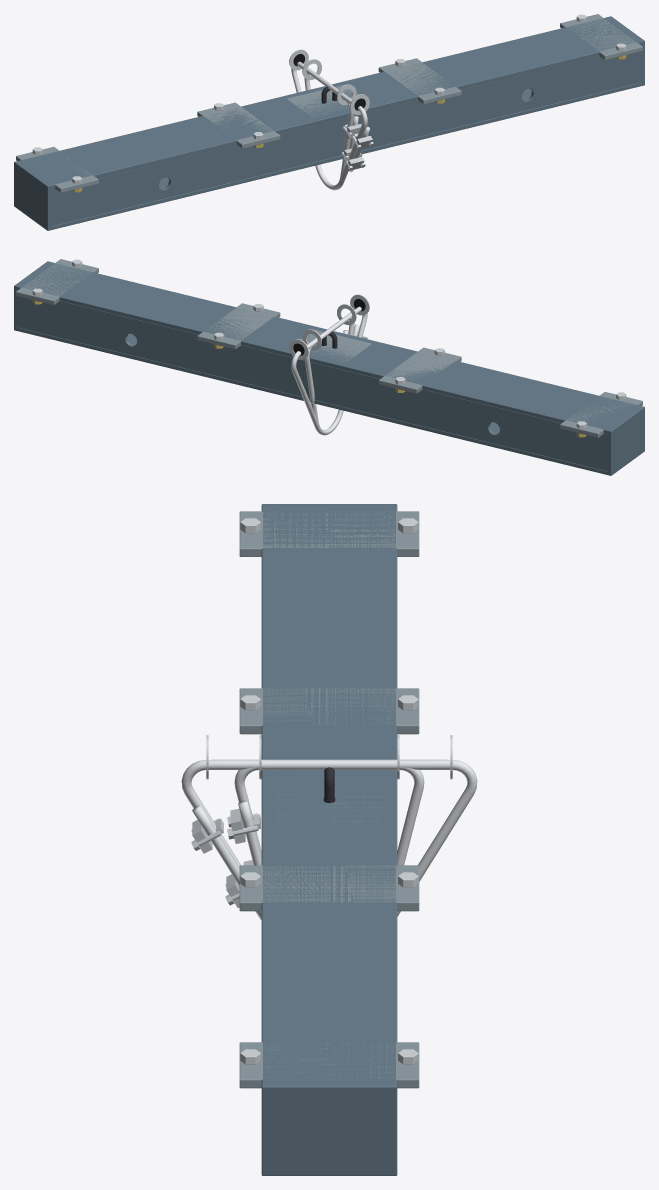
Rendered from comp_chain_hitch.glb.
3 views of the same model, one above another, from view 1: azimuth 30°, elevation 25°; view 2: azimuth 150°, elevation 25°; view 3: azimuth 270°, elevation 25° (orthographic). The views are drawn at different scales.
Visible parts, largest first — view 1: CarCrossBeam, SafetyWire_Cwt, SafetyWire_Car, MountPlate_Car, WireSleeves_Cwt, WireSleeves_Car; view 2: CarCrossBeam, SafetyWire_Cwt, MountPlate_Car, SafetyWire_Car, WireSleeves_Cwt, WireSleeves_Car; view 3: CarCrossBeam, SafetyWire_Cwt, SafetyWire_Car.
Part boxes in pixels (<box>): CarCrossBeam: <box>14,14,644,230</box>; SafetyWire_Cwt: <box>291,61,374,190</box>; SafetyWire_Car: <box>304,72,362,189</box>; MountPlate_Car: <box>287,84,371,117</box>; WireSleeves_Cwt: <box>289,49,369,114</box>; WireSleeves_Car: <box>302,59,356,105</box>; CarCrossBeam: <box>14,259,644,475</box>; SafetyWire_Cwt: <box>291,306,367,435</box>; MountPlate_Car: <box>300,329,371,362</box>; SafetyWire_Car: <box>304,317,354,434</box>; WireSleeves_Cwt: <box>289,294,369,359</box>; WireSleeves_Car: <box>302,304,356,350</box>; CarCrossBeam: <box>239,504,419,1175</box>; SafetyWire_Cwt: <box>181,759,477,920</box>; SafetyWire_Car: <box>227,759,424,865</box>.
Size of the model in its own units: 1.12 by 0.2074 by 0.2399.
